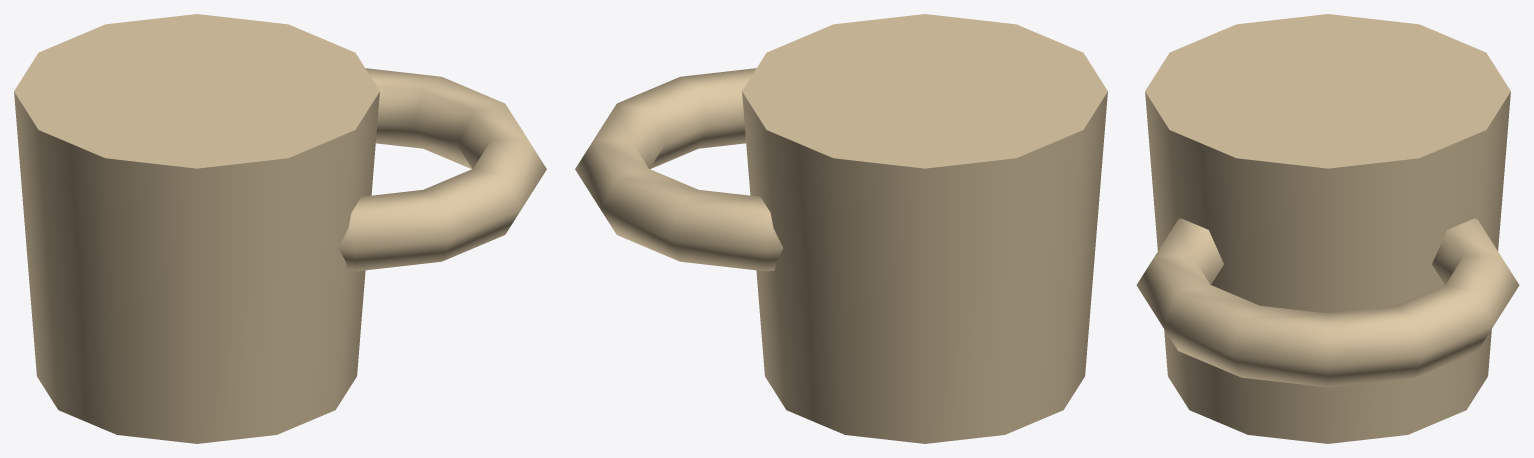
The model's file is mug.glb.
3 renders of one model, left to right at view 1: azimuth 30°, elevation 25°; view 2: azimuth 150°, elevation 25°; view 3: azimuth 270°, elevation 25°, orthographic.
Parts seen in each view (by area): view 1: mug; view 2: mug; view 3: mug.
Boxes of the visible parts, <box> form: mug: <box>14,14,546,443</box>; mug: <box>575,14,1107,443</box>; mug: <box>1136,14,1519,443</box>.
Size of the model in its own units: 0.975 by 0.55 by 0.67.
